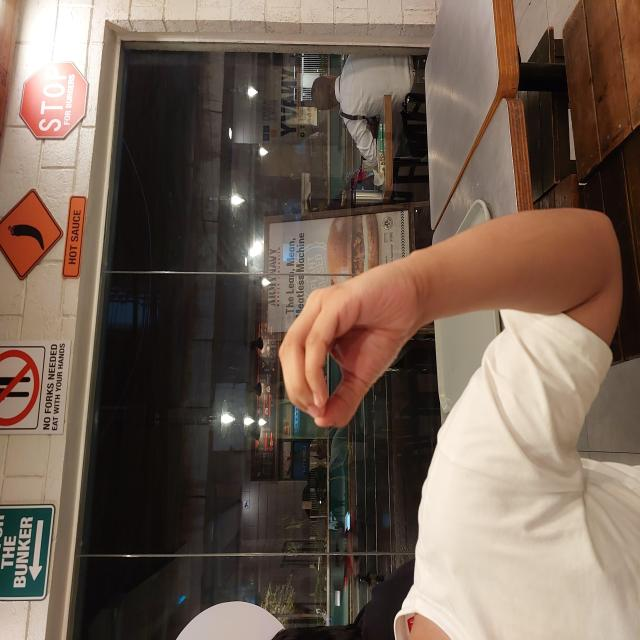O: (210, 277, 380, 418)
